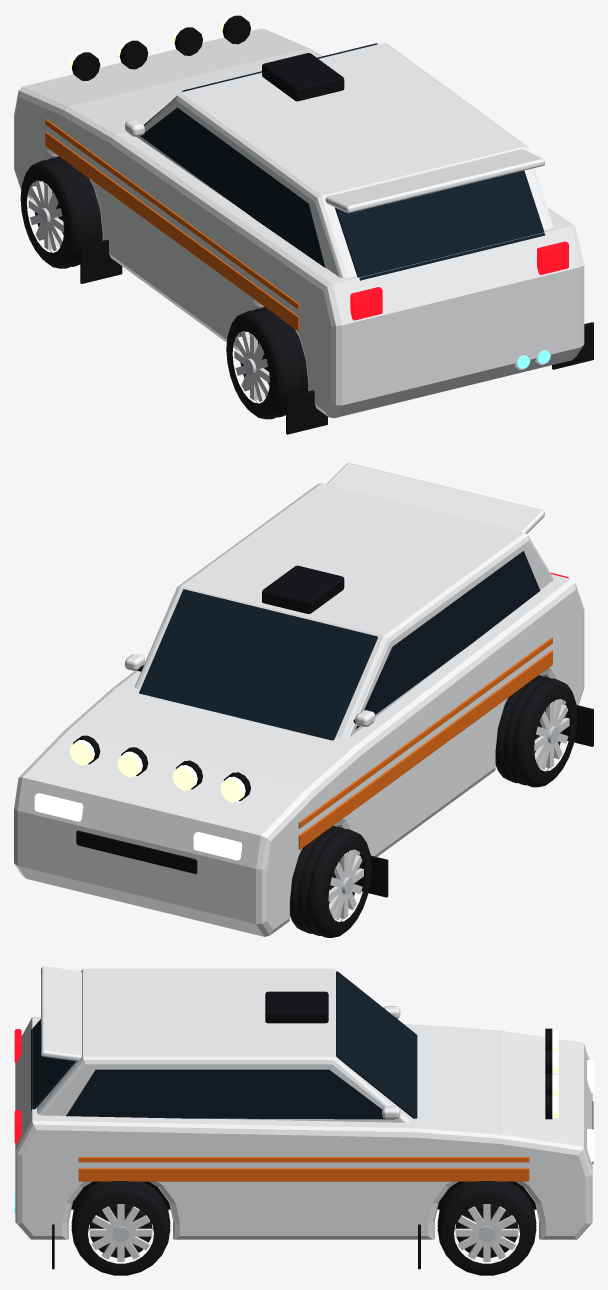
The model's file is gravel-fox.glb.
3 renders of one model, top to bottom at view 1: azimuth 30°, elevation 25°; view 2: azimuth 150°, elevation 25°; view 3: azimuth 270°, elevation 25°, orthographic. The views are drawn at different scales.
Visible parts, largest first — view 1: Body, Cabin, RearWindow, Tire (×2), SideGlass, RoofSpoiler, SideStripe, MudFlap (×3), RoofScoop, RallyLampBack (×4), SideStripeThin, TailLight (×2); view 2: Body, Cabin, Windscreen, Tire (×2), SideGlass, RoofSpoiler, SideStripe, RoofScoop, Headlight (×2), Grille, SideStripeThin, MudFlap (×2); view 3: Body, Cabin, SideGlass, Tire (×2), Windscreen, SideStripe, RoofSpoiler, SideStripeThin, RoofScoop, RearWindow, RimDish (×2).
Part boxes in pixels (x1=…): Body: x1=14, y1=28, x2=584, y2=418; Cabin: x1=136, y1=43, x2=553, y2=278; RearWindow: x1=335, y1=170, x2=545, y2=280; Tire (×2): x1=20, y1=156, x2=308, y2=419; SideGlass: x1=140, y1=107, x2=325, y2=267; RoofSpoiler: x1=325, y1=149, x2=544, y2=213; SideStripe: x1=45, y1=132, x2=299, y2=331; MudFlap (×3): x1=80, y1=239, x2=593, y2=434; RoofScoop: x1=262, y1=53, x2=344, y2=101; RallyLampBack (×4): x1=71, y1=15, x2=250, y2=80; SideStripeThin: x1=45, y1=119, x2=299, y2=309; TailLight (×2): x1=350, y1=241, x2=568, y2=320; Body: x1=14, y1=574, x2=584, y2=936; Cabin: x1=135, y1=483, x2=553, y2=738; Windscreen: x1=139, y1=589, x2=377, y2=740; Tire (×2): x1=290, y1=675, x2=577, y2=937; SideGlass: x1=355, y1=551, x2=540, y2=729; RoofSpoiler: x1=326, y1=463, x2=544, y2=533; SideStripe: x1=298, y1=650, x2=552, y2=849; RoofScoop: x1=262, y1=565, x2=344, y2=613; Headlight (×2): x1=34, y1=793, x2=242, y2=860; Grille: x1=76, y1=830, x2=197, y2=873; SideStripeThin: x1=298, y1=637, x2=552, y2=828; MudFlap (×2): x1=357, y1=703, x2=593, y2=897; Body: x1=15, y1=1017, x2=592, y2=1239; Cabin: x1=37, y1=968, x2=409, y2=1122; SideGlass: x1=66, y1=1069, x2=394, y2=1119; Tire (×2): x1=71, y1=1181, x2=536, y2=1275; Windscreen: x1=336, y1=971, x2=417, y2=1118; SideStripe: x1=78, y1=1168, x2=529, y2=1181; RoofSpoiler: x1=41, y1=966, x2=81, y2=1061; SideStripeThin: x1=78, y1=1157, x2=529, y2=1162; RoofScoop: x1=265, y1=991, x2=328, y2=1023; RearWindow: x1=31, y1=1019, x2=75, y2=1110; RimDish (×2): x1=89, y1=1204, x2=518, y2=1257.
Bounding box in the file's own units: 2.24 × 1.66 × 4.12.
